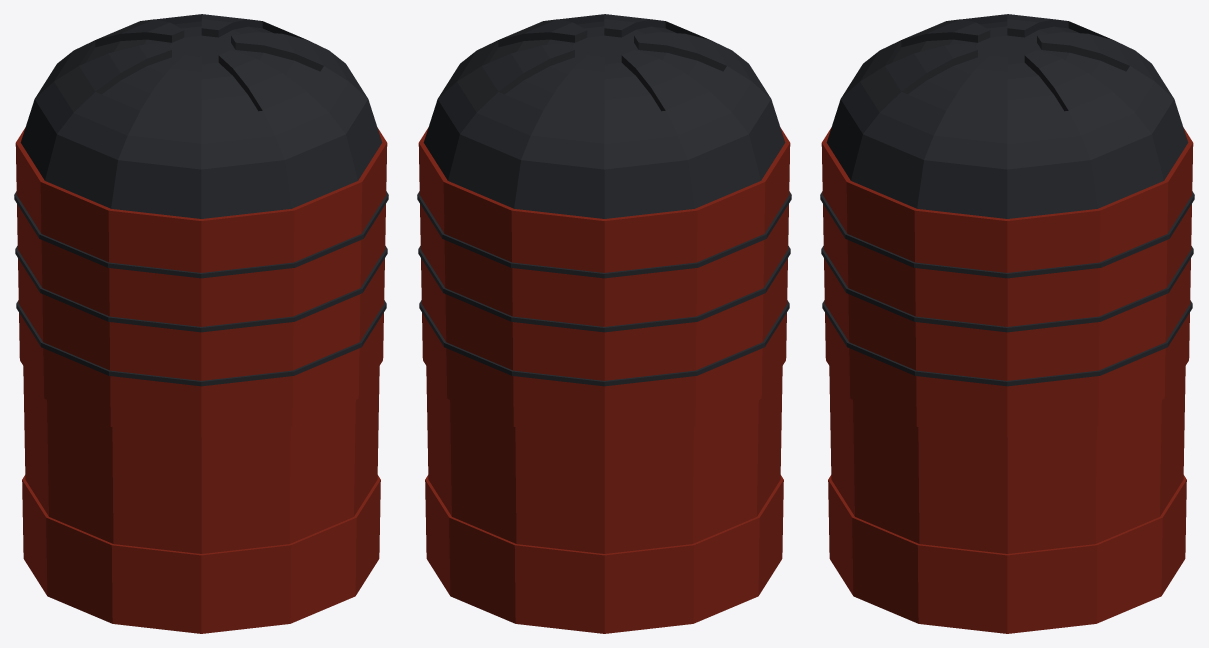
Rendered from TrashBin_2.fbx.
3 renders of one model, left to right at view 1: azimuth 30°, elevation 25°; view 2: azimuth 150°, elevation 25°; view 3: azimuth 270°, elevation 25°, orthographic.
Parts seen in each view (by area): view 1: TrashBin_2; view 2: TrashBin_2; view 3: TrashBin_2.
Boxes of the visible parts, <box> form: TrashBin_2: <box>14,14,388,633</box>; TrashBin_2: <box>417,14,791,633</box>; TrashBin_2: <box>820,14,1194,633</box>.
Bounding box in the file's own units: 63.45 × 96.44 × 63.45.
